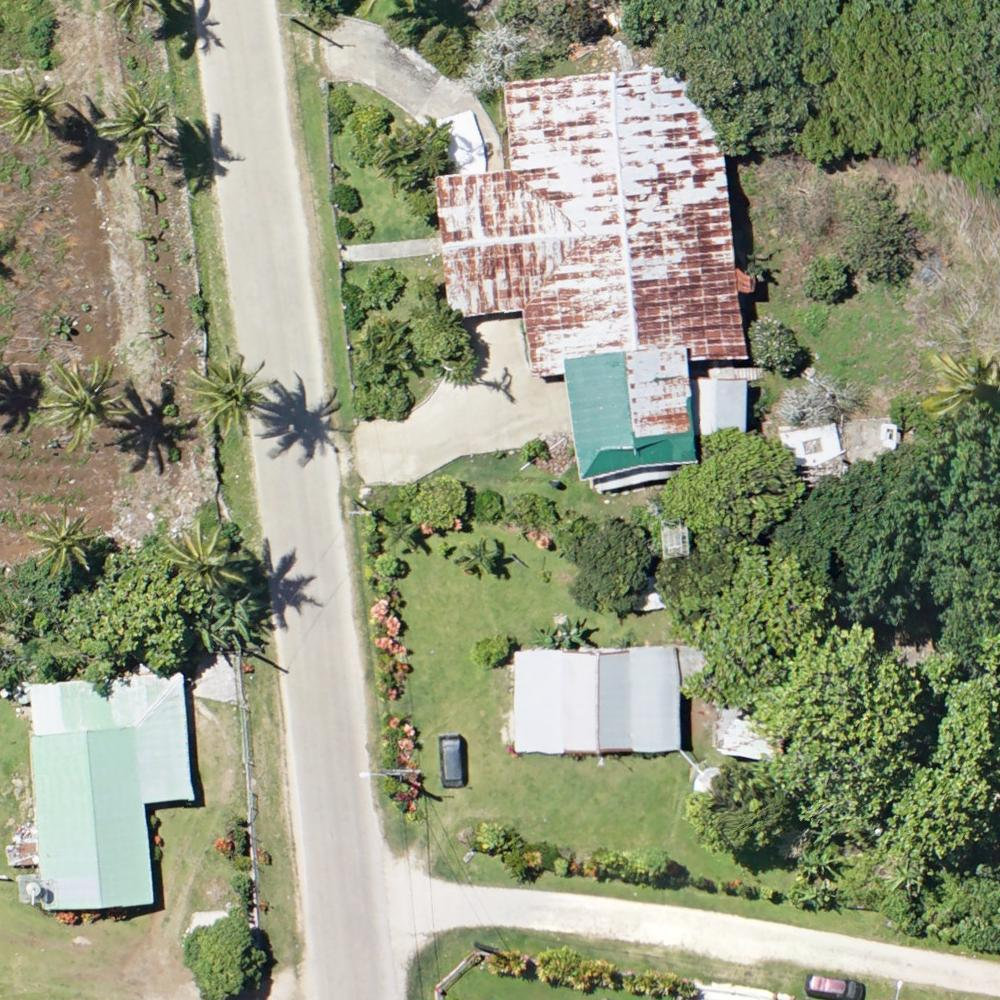Palm: (181, 355, 266, 441), (34, 359, 118, 446), (159, 519, 246, 597), (98, 86, 176, 164), (2, 68, 71, 144), (32, 504, 102, 576)
